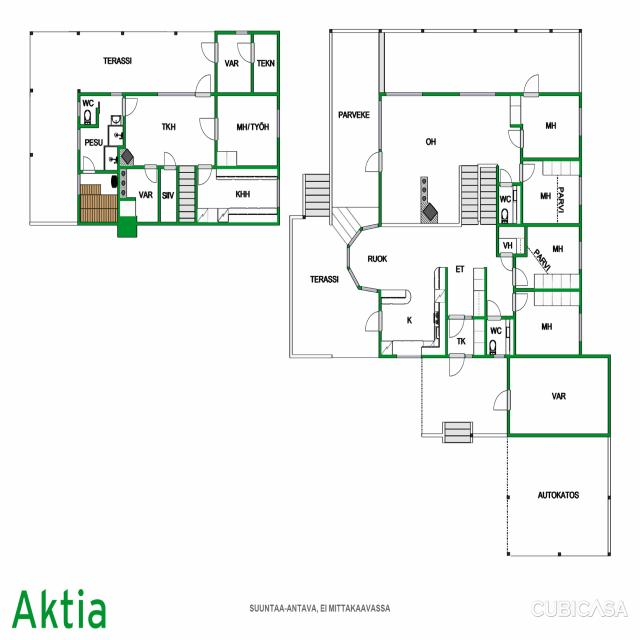door: (198, 118, 218, 140), (492, 390, 510, 410), (236, 43, 254, 62), (200, 42, 217, 62), (364, 311, 381, 331), (524, 72, 538, 96), (364, 152, 381, 171), (196, 73, 210, 96), (450, 354, 464, 377), (450, 316, 464, 339), (520, 164, 536, 182), (507, 130, 523, 148), (198, 166, 212, 186), (488, 298, 501, 319), (513, 294, 529, 311), (513, 268, 529, 285), (123, 98, 138, 115), (83, 154, 95, 173), (500, 167, 512, 186), (164, 151, 176, 169), (145, 166, 156, 184), (501, 254, 512, 272)
